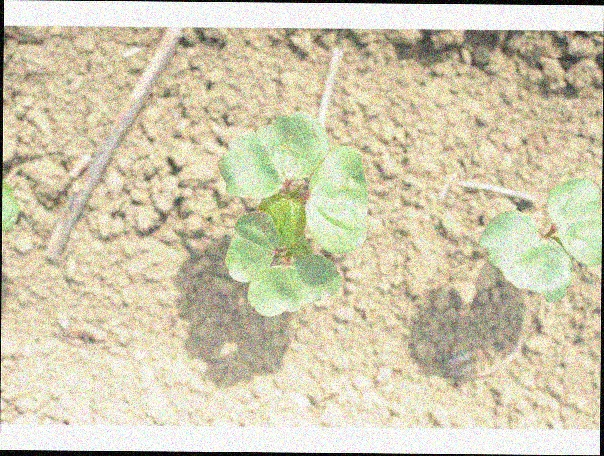cotton: (215, 112, 371, 320), (479, 175, 602, 305)
